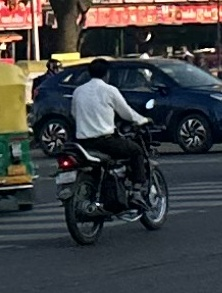BikeWithRider: (50, 58, 169, 248)
NoHelmet: (86, 59, 111, 85)
